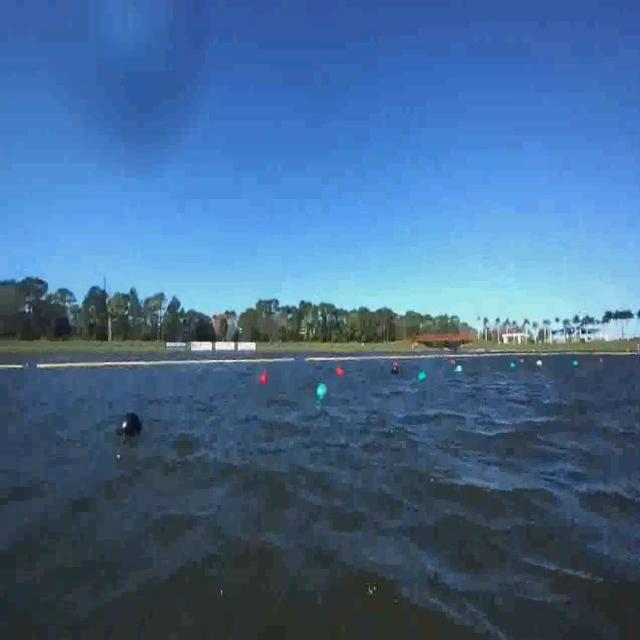black-buoy: (106, 402, 149, 447)
green-buoy: (316, 383, 328, 399), (420, 371, 426, 380)
red-buoy: (262, 371, 270, 384), (338, 366, 345, 376)
yellow-buoy: (434, 413, 442, 425)
